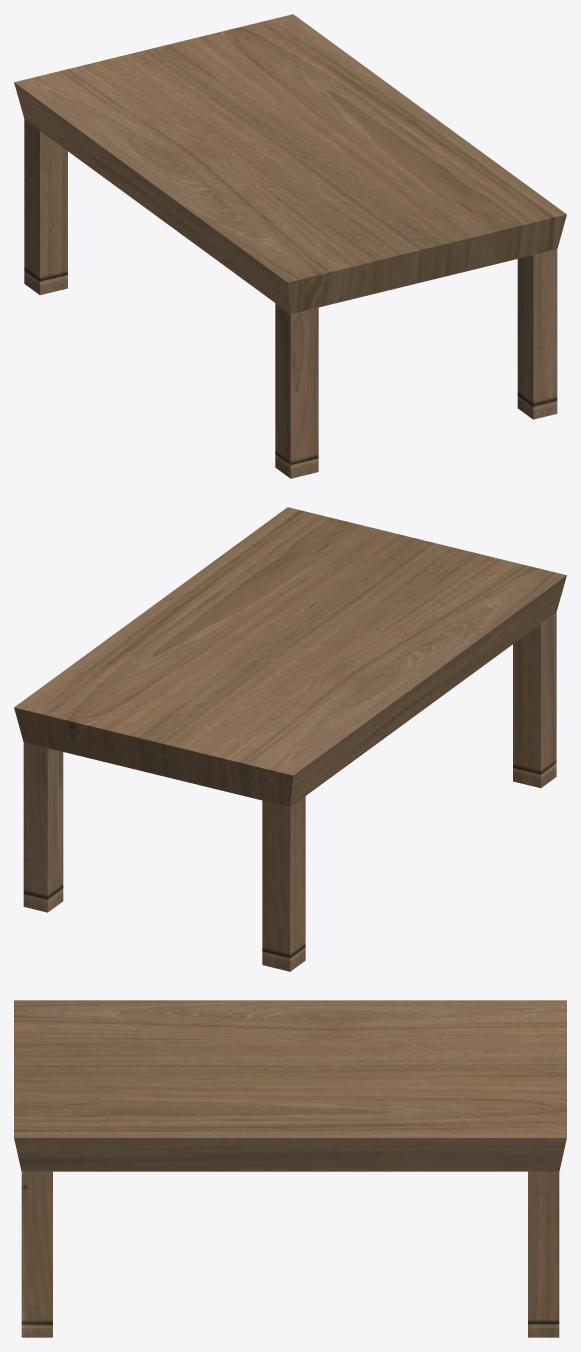
Rendered from DinnerTable.fbx.
3 renders of one model, top to bottom at view 1: azimuth 30°, elevation 25°; view 2: azimuth 150°, elevation 25°; view 3: azimuth 270°, elevation 25°, orthographic.
Parts seen in each view (by area): view 1: Cube; view 2: Cube; view 3: Cube.
Boxes of the visible parts, x1,y1,x2,y2 form: Cube: [14, 14, 566, 478]; Cube: [14, 507, 566, 971]; Cube: [14, 1000, 566, 1337].
Bounding box in the file's own units: 2.61 × 1.79 × 4.42.
